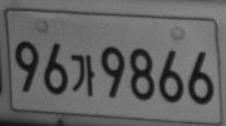6: (187, 51, 214, 105), (158, 50, 184, 103), (43, 42, 68, 95)
8: (129, 47, 155, 101)
9: (100, 45, 125, 98), (14, 40, 39, 92)
가: (71, 54, 95, 96)
